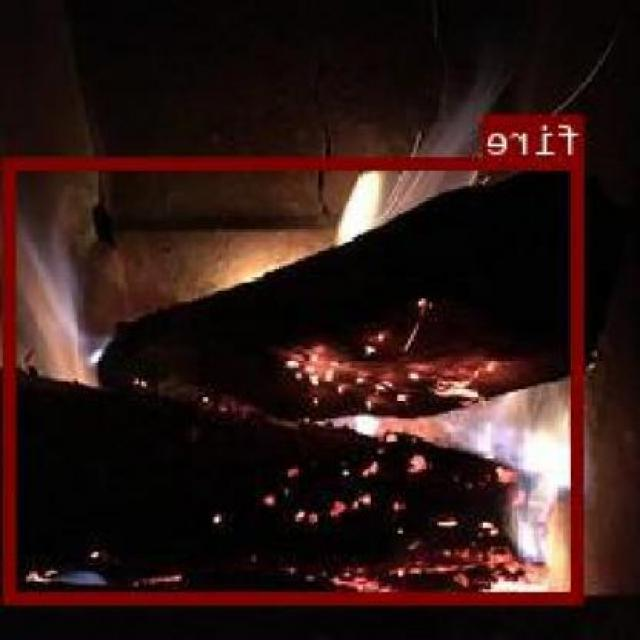Fire: (7, 156, 586, 601)
